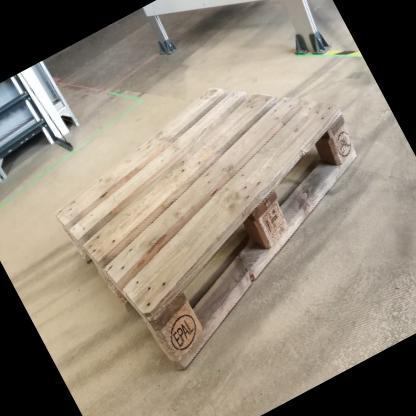BoxFace: (48, 76, 362, 380)
